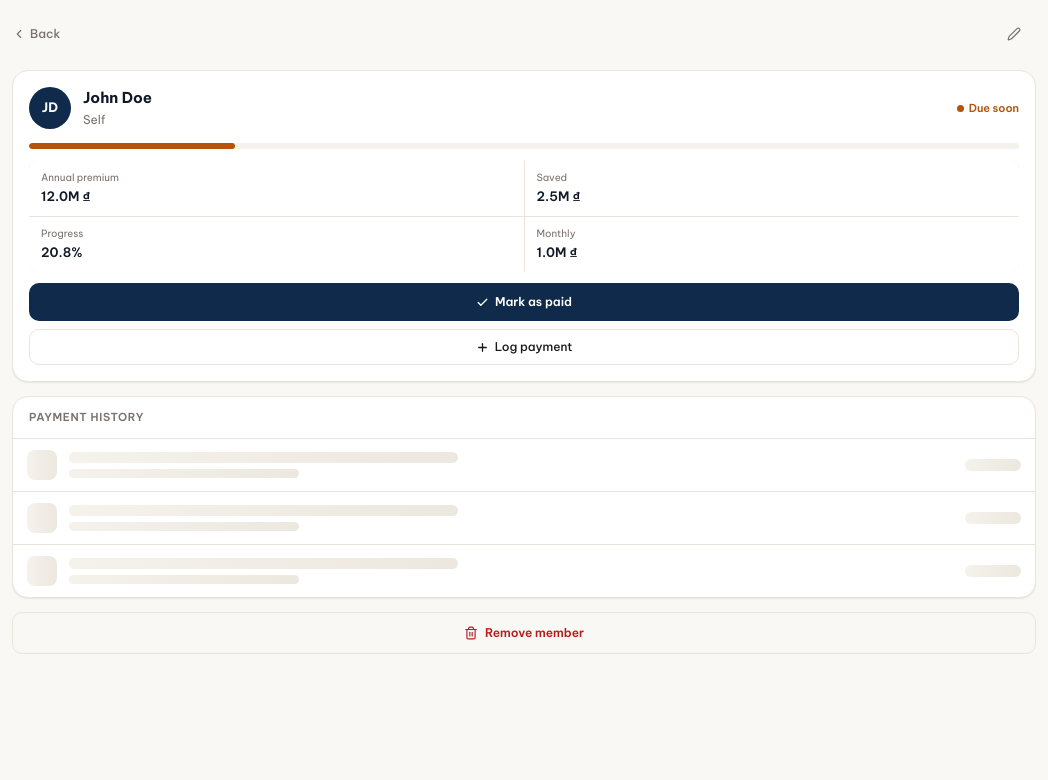
Test case: DesktopInsuranceDetail — edit-form labels are accurate › labels the relationship picker "Relationship" and the date "Payment date" (not "Coverage type"/"Start date")
Click the button with test id "insurance-edit-btn" at (1014, 34), box [992, 12, 1036, 56]
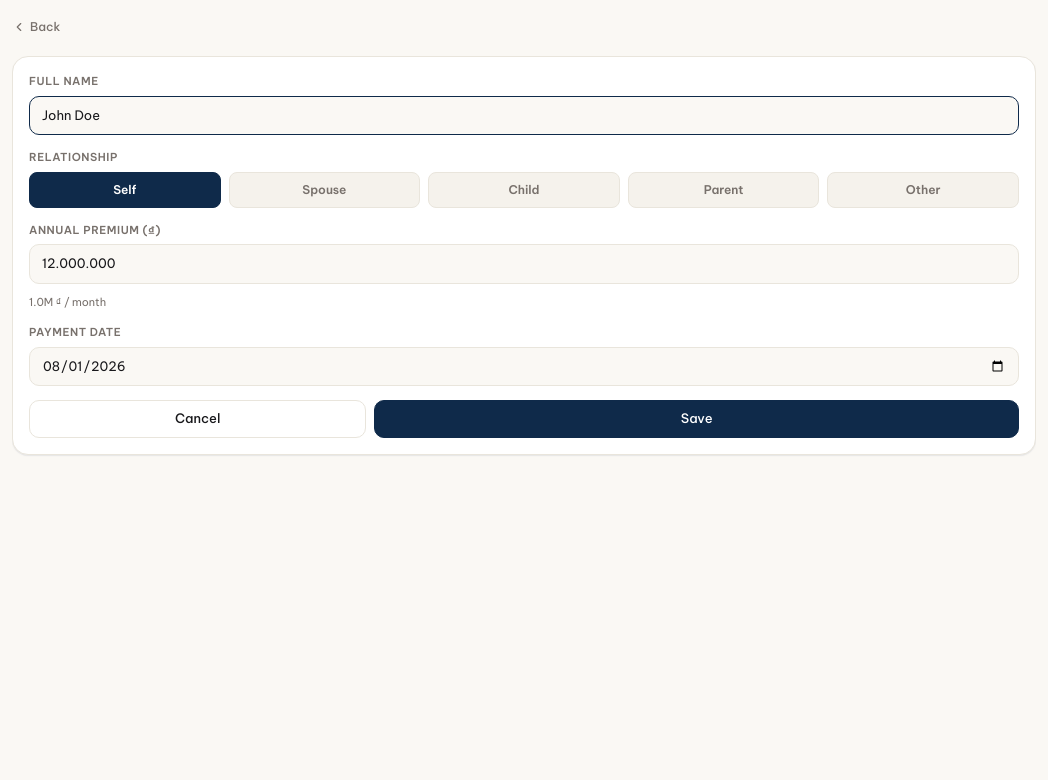
Check: the text "Relationship" is shown, box [29, 150, 118, 164]
Check: the text "Payment date" is shown, box [29, 325, 121, 339]
